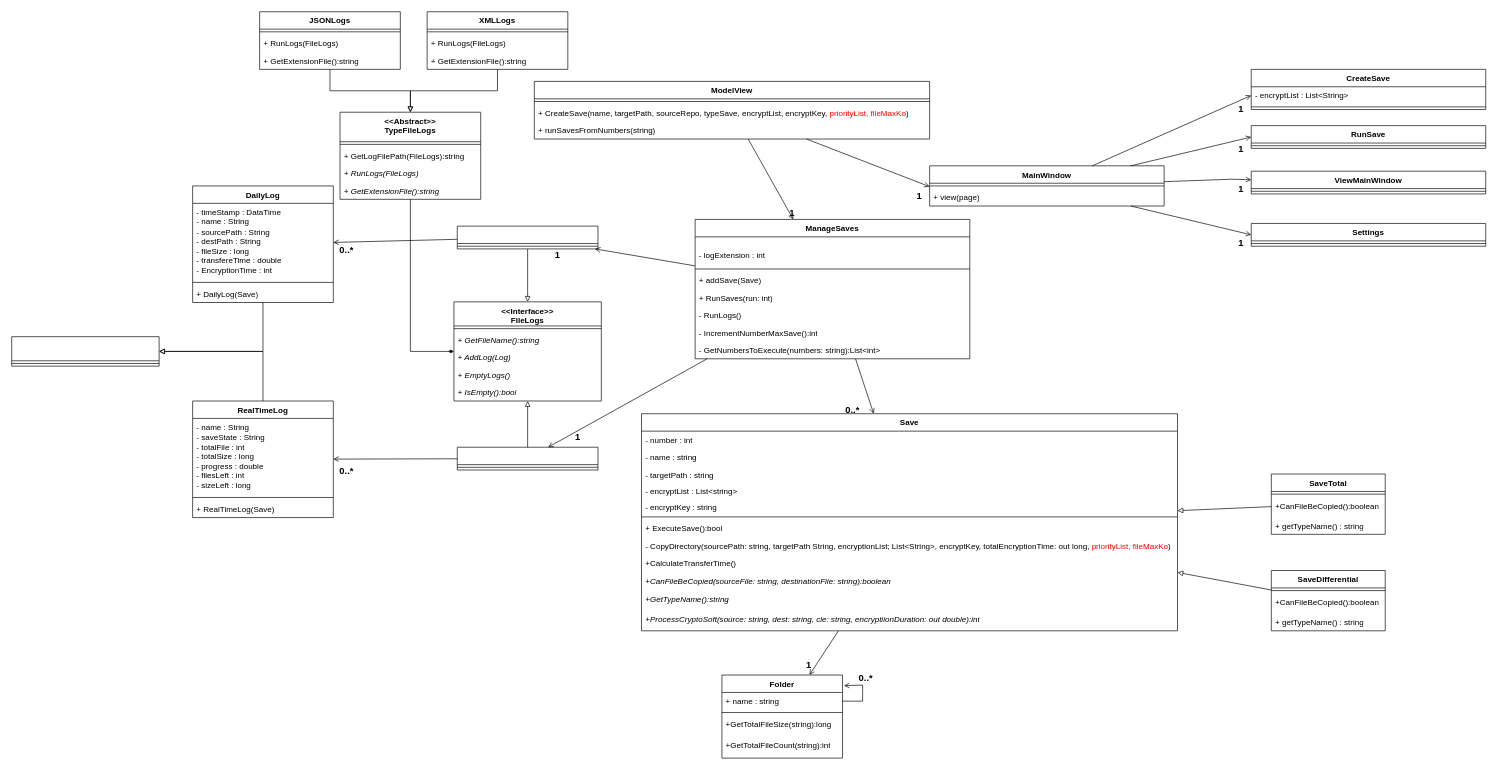
The diagram is 1497 pixels wide and 772 high, and some of its shapes have lost their labels. The shapes that lost their labels are listed below. From the top down, each one's centre as x and y in pixels, then its label:
At [527,237]: "FileDailyLogs".
At [85,351]: "<<Interface>> Log".
At [527,458]: "FileRTLogs".
